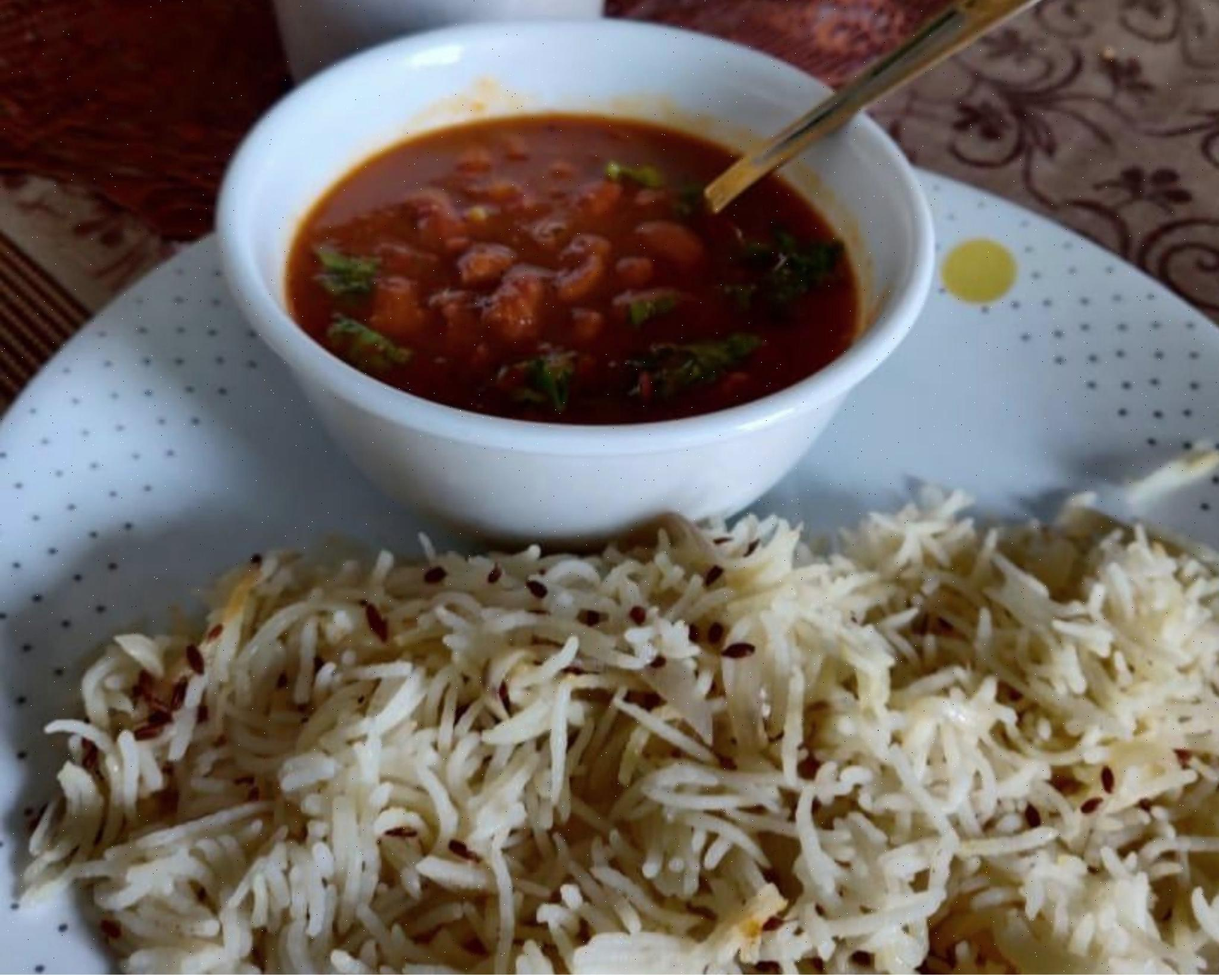rajma: (283, 102, 817, 393)
rice: (21, 517, 1219, 964)
